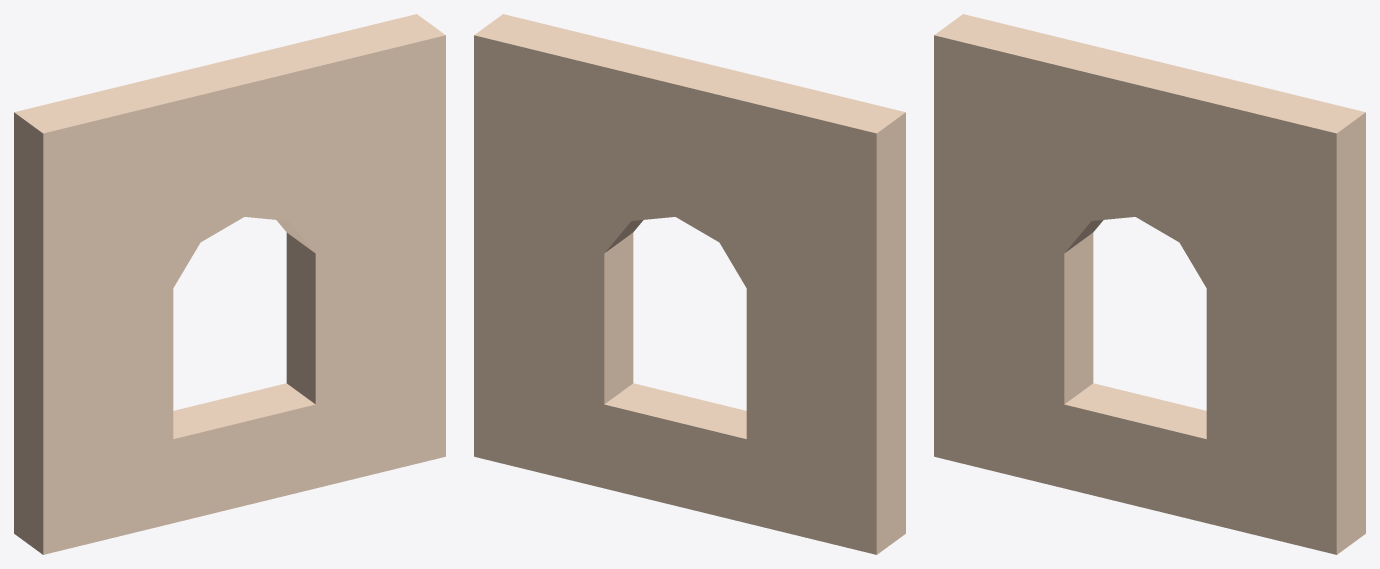
The model's file is Abstract_Modular_Doorway_Facade_1.0_Beige_01.fbx.
The picture shows the model from 3 angles, left to right: view 1: azimuth 30°, elevation 25°; view 2: azimuth 150°, elevation 25°; view 3: azimuth 330°, elevation 25°; orthographic projection.
Parts seen in each view (by area): view 1: Abstract_Modular_Doorway_Facade_1.0_Beige_01; view 2: Abstract_Modular_Doorway_Facade_1.0_Beige_01; view 3: Abstract_Modular_Doorway_Facade_1.0_Beige_01.
Part boxes in pixels (bbox=[...]): Abstract_Modular_Doorway_Facade_1.0_Beige_01: bbox=[14, 14, 445, 554]; Abstract_Modular_Doorway_Facade_1.0_Beige_01: bbox=[474, 14, 905, 554]; Abstract_Modular_Doorway_Facade_1.0_Beige_01: bbox=[934, 14, 1365, 554].
Size of the model in its own units: 3000 by 3000 by 375.
